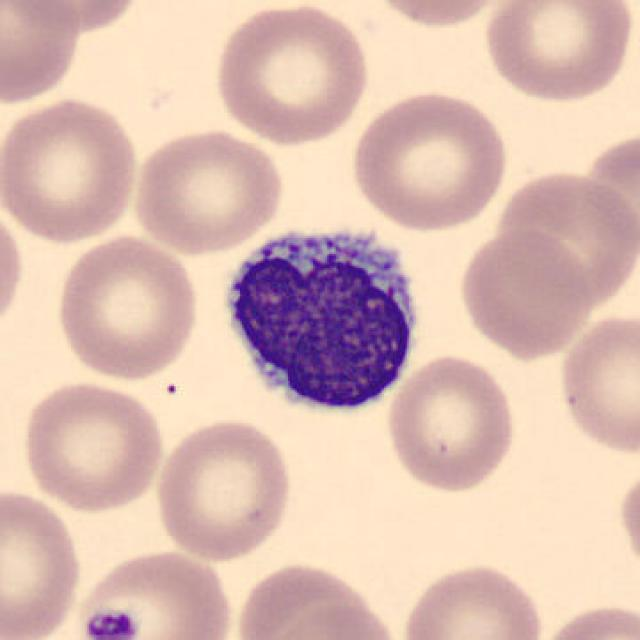Lymphocyte: (212, 211, 430, 425)
Platelets: (80, 607, 142, 638)
RBC: (347, 86, 512, 233), (209, 0, 373, 146), (51, 231, 202, 383), (151, 414, 297, 564), (0, 94, 144, 245), (492, 166, 638, 310), (128, 125, 288, 256), (18, 377, 167, 515), (382, 351, 521, 495), (453, 226, 594, 360), (478, 0, 636, 106), (73, 545, 236, 640), (231, 559, 395, 640), (0, 485, 85, 640), (396, 557, 550, 640), (555, 307, 638, 460), (0, 0, 84, 108), (254, 601, 406, 640), (4, 0, 150, 37), (363, 0, 519, 32), (531, 597, 638, 640), (0, 197, 28, 342), (615, 460, 640, 584)
